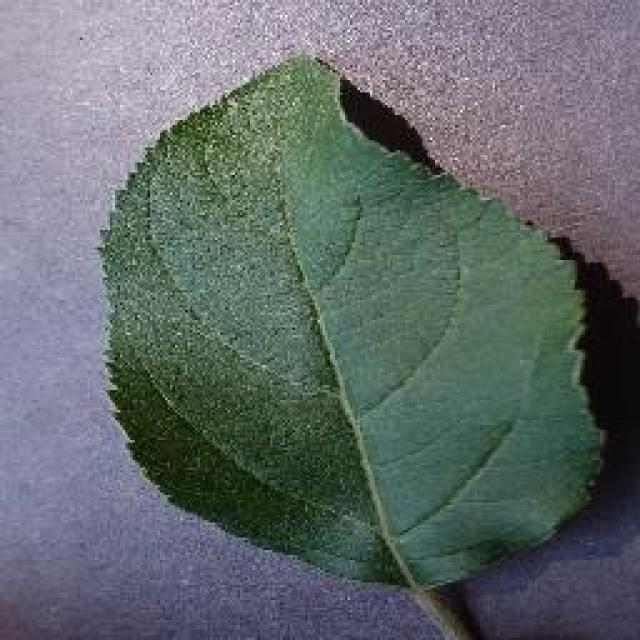apple healthy: (95, 50, 610, 598)
